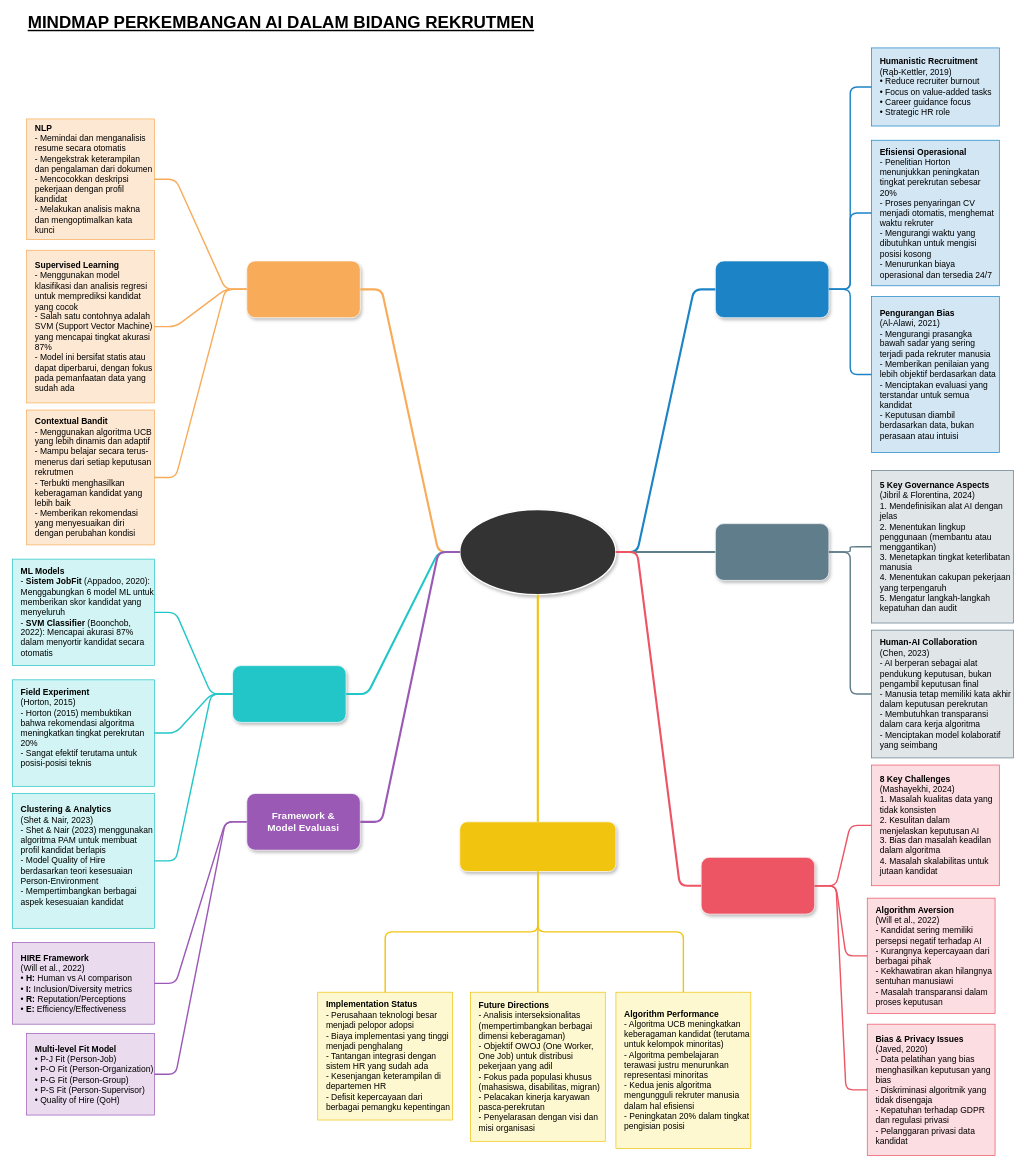
This 1026x1168 diagram has some shape labels left out. The shapes that lost their labels are listed below. From the top down, each one's centre as x and y in pixels, then its label:
At (304,290): "Teknologi & Pendekatan ML".
At (772,290): "Manfaat & Peluang".
At (538,553): "AI & ML dalam Rekrutmen (2015-2024)".
At (772,552): "Regulasi & Governance".
At (289,694): "Implementasi & Metodologi".
At (538,847): "Key Research Findings".
At (758,886): "Tantangan & Risiko".
